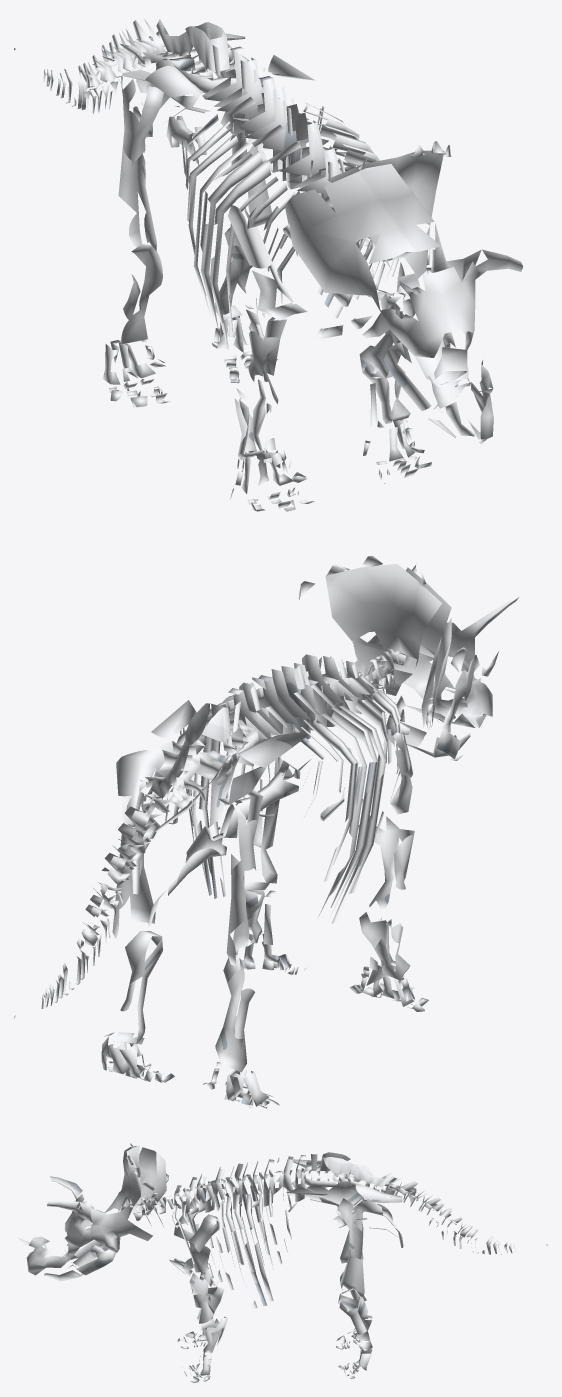
The model's file is TriceratopsSkeletonModel EDITED.fbx.
3 views of the same model, one above another, from view 1: azimuth 30°, elevation 25°; view 2: azimuth 150°, elevation 25°; view 3: azimuth 270°, elevation 25° (orthographic). The views are drawn at different scales.
Visible parts, largest first — view 1: TriceratopsSkeleton.001, TriceratopsSkeleton.017, TriceratopsSkeleton.016, TriceratopsSkeleton.005, TriceratopsSkeleton.003, TriceratopsSkeleton.004, TriceratopsSkeleton.008, TriceratopsSkeleton.006, TriceratopsSkeleton.014, TriceratopsSkeleton.012, TriceratopsSkeleton.002, TriceratopsSkeleton.015 (+4 smaller); view 2: TriceratopsSkeleton.001, TriceratopsSkeleton.017, TriceratopsSkeleton.016, TriceratopsSkeleton.014, TriceratopsSkeleton.005, TriceratopsSkeleton.006, TriceratopsSkeleton.003, TriceratopsSkeleton.002, TriceratopsSkeleton.007, TriceratopsSkeleton.004, TriceratopsSkeleton.010, TriceratopsSkeleton.011 (+4 smaller); view 3: TriceratopsSkeleton.001, TriceratopsSkeleton.017, TriceratopsSkeleton.015, TriceratopsSkeleton.014, TriceratopsSkeleton.004, TriceratopsSkeleton.006, TriceratopsSkeleton.009, TriceratopsSkeleton.016, TriceratopsSkeleton.010, TriceratopsSkeleton.002, TriceratopsSkeleton.005, TriceratopsSkeleton.007 (+5 smaller).
Boxes of the visible parts, bbox=[...] form: TriceratopsSkeleton.001: bbox=[283, 141, 522, 444]; TriceratopsSkeleton.017: bbox=[202, 46, 392, 261]; TriceratopsSkeleton.016: bbox=[182, 114, 295, 344]; TriceratopsSkeleton.005: bbox=[230, 317, 314, 511]; TriceratopsSkeleton.003: bbox=[103, 244, 170, 407]; TriceratopsSkeleton.004: bbox=[359, 289, 431, 483]; TriceratopsSkeleton.008: bbox=[118, 79, 163, 251]; TriceratopsSkeleton.006: bbox=[14, 19, 168, 113]; TriceratopsSkeleton.014: bbox=[143, 19, 249, 92]; TriceratopsSkeleton.012: bbox=[228, 205, 343, 338]; TriceratopsSkeleton.002: bbox=[212, 227, 278, 383]; TriceratopsSkeleton.015: bbox=[302, 102, 398, 318]; TriceratopsSkeleton.001: bbox=[298, 555, 518, 760]; TriceratopsSkeleton.017: bbox=[226, 648, 403, 766]; TriceratopsSkeleton.016: bbox=[293, 690, 401, 923]; TriceratopsSkeleton.014: bbox=[143, 701, 259, 811]; TriceratopsSkeleton.005: bbox=[349, 816, 428, 1011]; TriceratopsSkeleton.006: bbox=[14, 794, 172, 1018]; TriceratopsSkeleton.003: bbox=[203, 955, 279, 1108]; TriceratopsSkeleton.002: bbox=[101, 931, 174, 1082]; TriceratopsSkeleton.007: bbox=[132, 746, 300, 926]; TriceratopsSkeleton.004: bbox=[235, 799, 305, 974]; TriceratopsSkeleton.010: bbox=[116, 700, 206, 826]; TriceratopsSkeleton.011: bbox=[155, 731, 308, 831]; TriceratopsSkeleton.001: bbox=[18, 1143, 168, 1281]; TriceratopsSkeleton.017: bbox=[126, 1155, 306, 1230]; TriceratopsSkeleton.015: bbox=[175, 1189, 291, 1308]; TriceratopsSkeleton.014: bbox=[300, 1152, 394, 1192]; TriceratopsSkeleton.004: bbox=[182, 1272, 227, 1382]; TriceratopsSkeleton.006: bbox=[384, 1177, 547, 1254]; TriceratopsSkeleton.009: bbox=[338, 1198, 364, 1296]; TriceratopsSkeleton.016: bbox=[177, 1169, 291, 1275]; TriceratopsSkeleton.010: bbox=[286, 1181, 404, 1207]; TriceratopsSkeleton.002: bbox=[338, 1288, 372, 1378]; TriceratopsSkeleton.005: bbox=[177, 1245, 224, 1349]; TriceratopsSkeleton.007: bbox=[288, 1181, 403, 1247].
Size of the model in its own units: 220 by 407 by 935.
